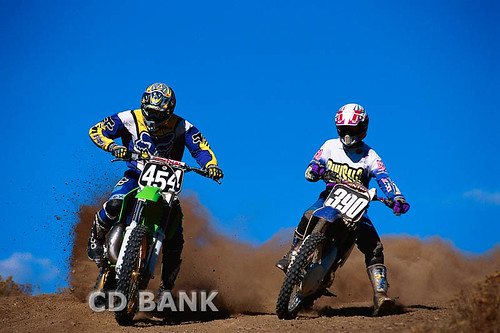helmet: (137, 76, 178, 132), (332, 95, 372, 148)
